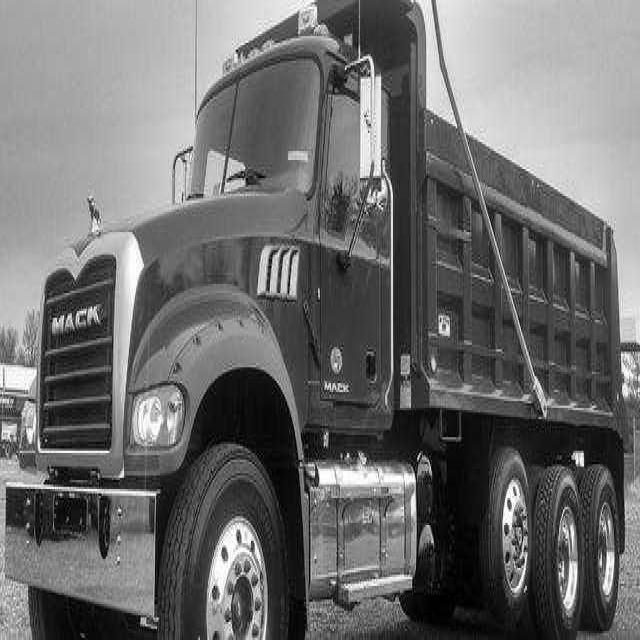Truck: (5, 0, 625, 638)
